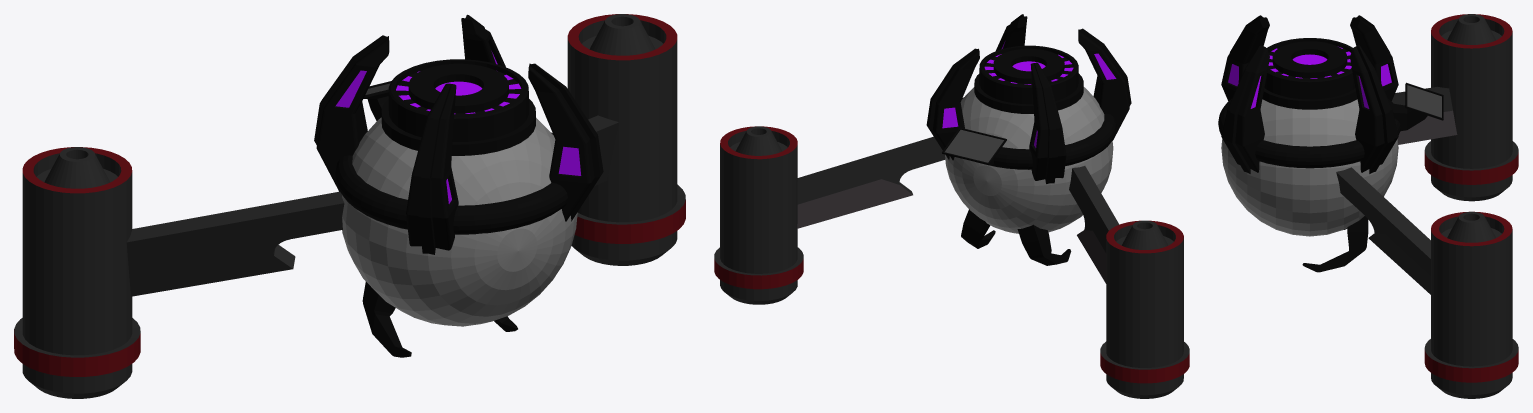
Rendered from drone3rot.fbx.
The picture shows the model from 3 angles, left to right: view 1: azimuth 30°, elevation 25°; view 2: azimuth 150°, elevation 25°; view 3: azimuth 270°, elevation 25°; orthographic projection. The views are drawn at different scales.
Parts seen in each view (by area): view 1: Cube; view 2: Cube; view 3: Cube.
Part boxes in pixels (x1,y1,x2,y2): Cube: [14, 14, 685, 398]; Cube: [714, 14, 1189, 398]; Cube: [1218, 14, 1518, 398].
Size of the model in its own units: 634 by 318 by 339.
